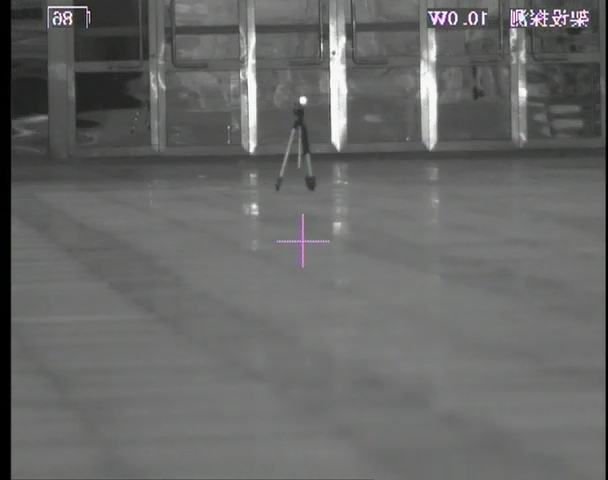my: (298, 95, 308, 107)
